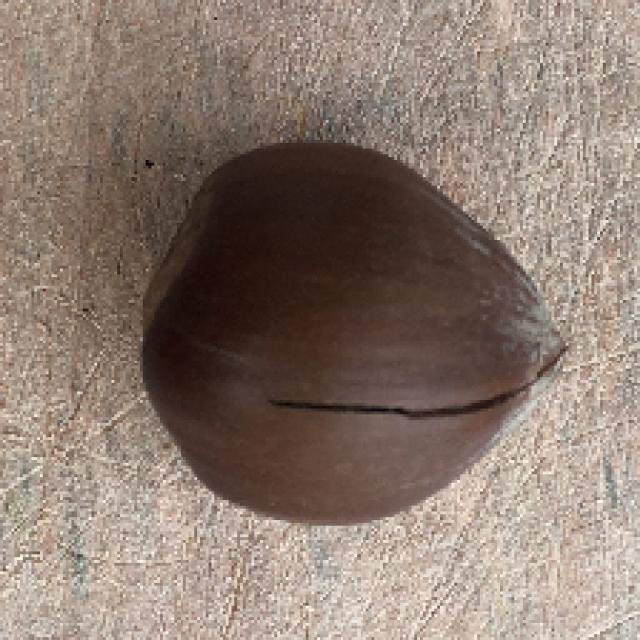damagedHazelnut: (125, 130, 563, 531)
